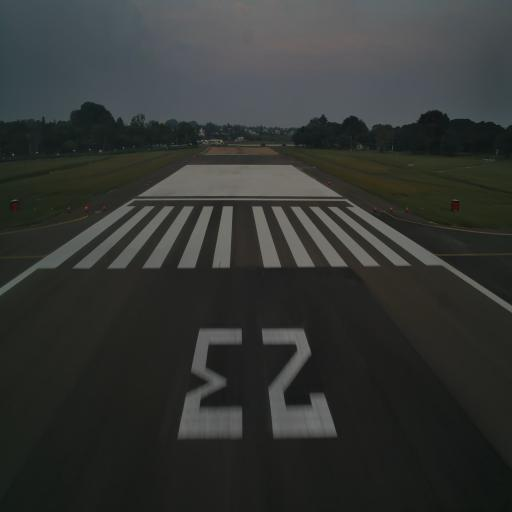on: (388, 204, 395, 215), (373, 204, 378, 214), (66, 205, 72, 212), (404, 203, 408, 213), (84, 202, 88, 212), (102, 202, 106, 211), (50, 204, 54, 212), (420, 204, 424, 211)
